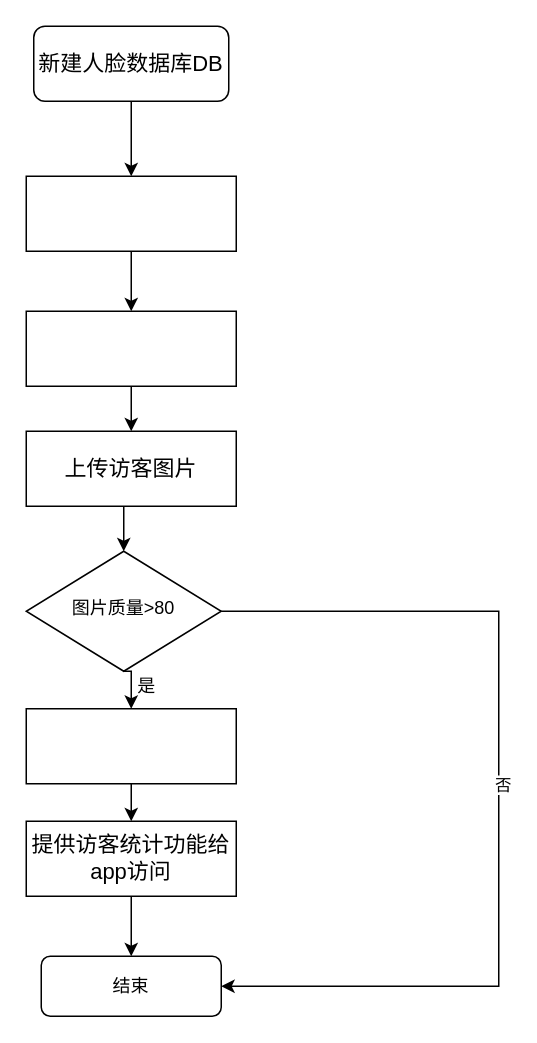
Image size: 537x1043. Some labels were removed from this diagram. Here are the shapes that lost their labels. From the top down, the centre of each, then its label:
At (130,213): "自定义用户关系".
At (130,348): "上传人脸数据模板".
At (130,745): "对访客图片打标签".
